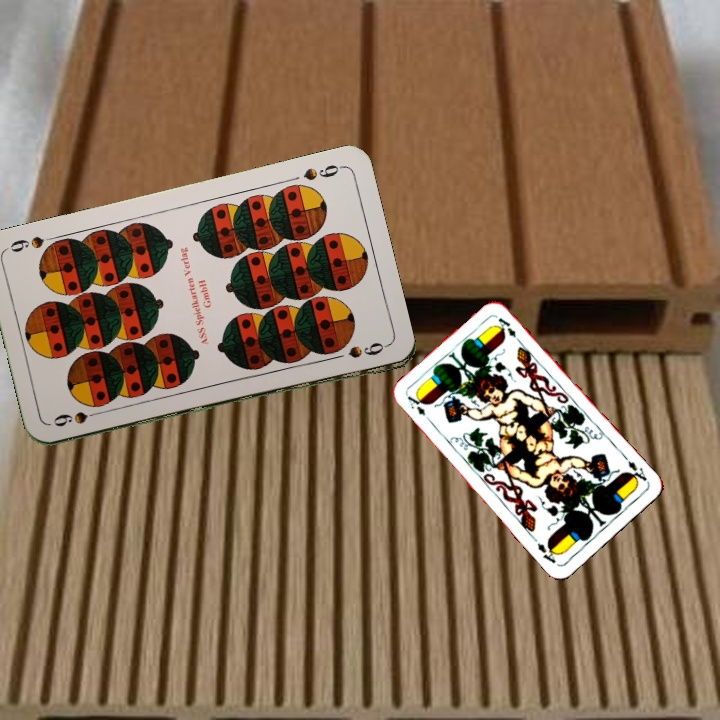EA: (403, 392, 434, 425), (623, 456, 651, 487)
S9: (49, 406, 107, 429), (299, 160, 346, 183)
